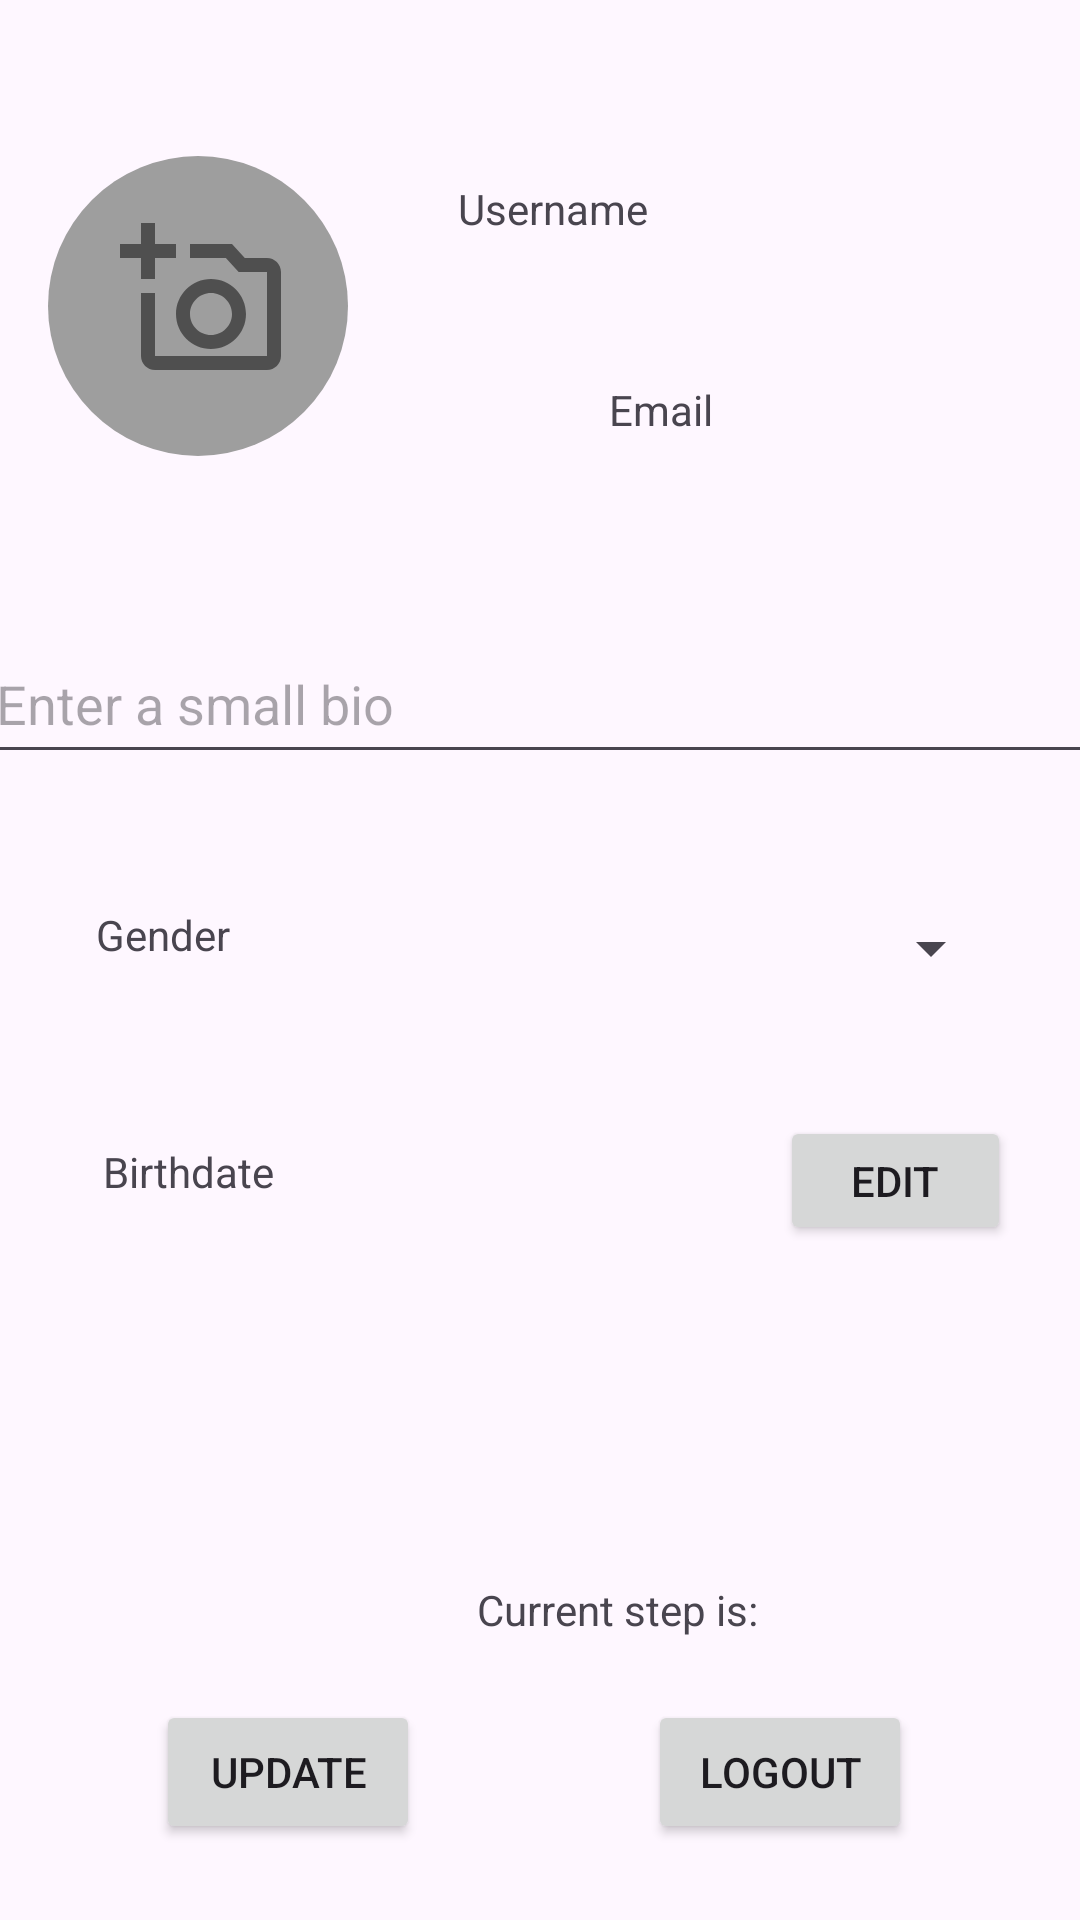

Screen size 1080×1920. Icon name, then its box in pixels as (x1=x1, y1=y1, x2=x2, y2=y2):
Change picture: (x1=120, y1=223, x2=281, y2=370)
